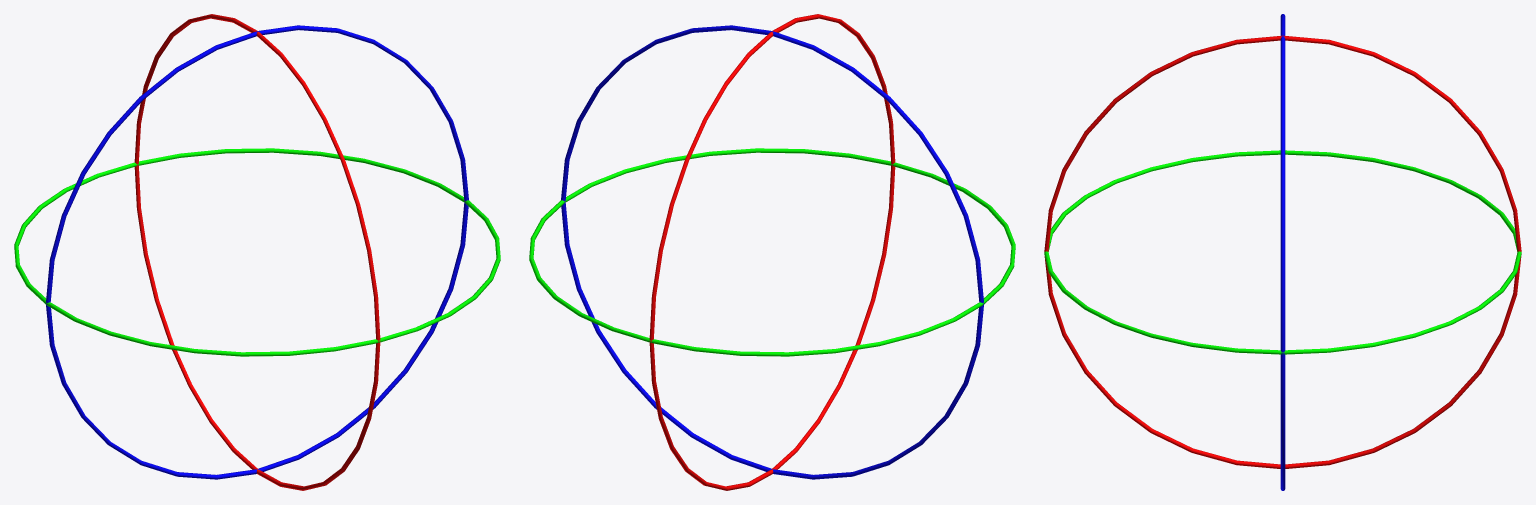
File: RotationHandle - Copy.fbx
3 renders of one model, left to right at view 1: azimuth 30°, elevation 25°; view 2: azimuth 150°, elevation 25°; view 3: azimuth 270°, elevation 25°, orthographic. The views are drawn at different scales.
Visible parts, largest first — view 1: New_Game_Object_2, New_Game_Object, New_Game_Object_1; view 2: New_Game_Object_2, New_Game_Object, New_Game_Object_1; view 3: New_Game_Object, New_Game_Object_1, New_Game_Object_2.
Part boxes in pixels (x1,y1,x2,y2): New_Game_Object_2: [45, 25, 468, 479]; New_Game_Object: [134, 14, 380, 490]; New_Game_Object_1: [14, 148, 500, 356]; New_Game_Object_2: [561, 25, 984, 479]; New_Game_Object: [649, 14, 895, 490]; New_Game_Object_1: [529, 148, 1015, 356]; New_Game_Object: [1044, 35, 1521, 468]; New_Game_Object_1: [1044, 150, 1521, 354]; New_Game_Object_2: [1280, 14, 1285, 490].
Bounding box in the file's own units: 3501 × 3501 × 3501.
